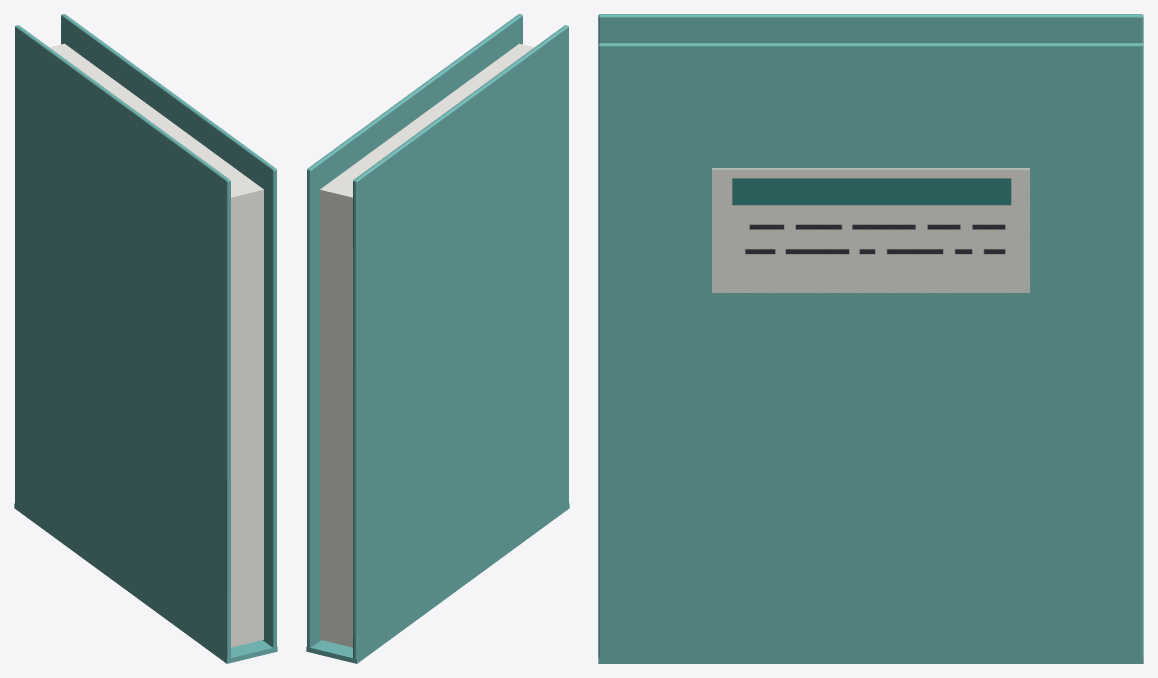
Rendered from escena.casa.carpeta_isapre.fbx.
3 views of the same model, side by side, from view 1: azimuth 30°, elevation 25°; view 2: azimuth 150°, elevation 25°; view 3: azimuth 270°, elevation 25° (orthographic). The views are drawn at different scales.
Visible parts, largest first — view 1: Tapa de atras, Hojas, Tapa de adelante, Lomo; view 2: Tapa de atras, Hojas, Tapa de adelante, Lomo; view 3: Tapa de adelante, Etiqueta, Tapa de atras, Lomo.
Part boxes in pixels (bbox=[...]): Tapa de atras: bbox=[15, 25, 230, 660]; Hojas: bbox=[49, 43, 263, 647]; Tapa de adelante: bbox=[61, 14, 276, 649]; Lomo: bbox=[14, 503, 277, 663]; Tapa de atras: bbox=[353, 25, 568, 660]; Hojas: bbox=[320, 43, 534, 647]; Tapa de adelante: bbox=[307, 14, 522, 649]; Lomo: bbox=[306, 503, 569, 663]; Tapa de adelante: bbox=[598, 42, 1143, 657]; Etiqueta: bbox=[712, 168, 1029, 292]; Tapa de atras: bbox=[598, 14, 1143, 43]; Lomo: bbox=[598, 657, 1143, 663].
Size of the model in its own units: 0.0338 by 0.3005 by 0.24.
Materials: 3 (1 with a texture image).
